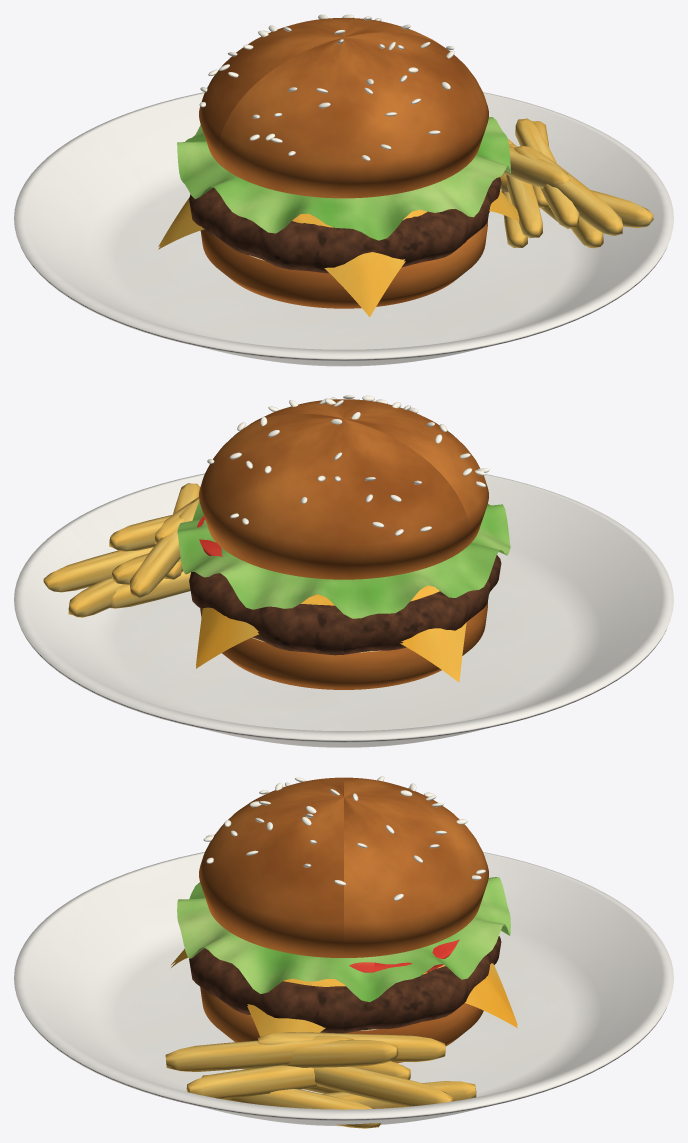
File: hamburguer-artesanal.glb
The picture shows the model from 3 angles, top to bottom: view 1: azimuth 30°, elevation 25°; view 2: azimuth 150°, elevation 25°; view 3: azimuth 270°, elevation 25°; orthographic projection.
Visible parts, largest first — view 1: hamburguer-artesanal; view 2: hamburguer-artesanal; view 3: hamburguer-artesanal.
Part boxes in pixels (x1,y1,x2,y2): hamburguer-artesanal: (14, 14, 673, 366); hamburguer-artesanal: (14, 395, 673, 747); hamburguer-artesanal: (14, 776, 673, 1128).
Bounding box in the file's own units: 0.261 × 0.1043 × 0.261.
Materials: 9 (8 with a texture image).
